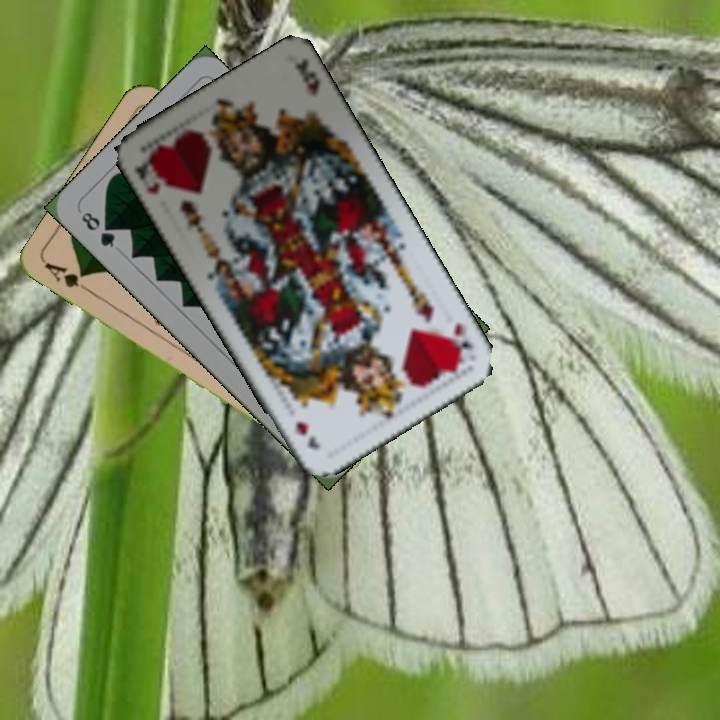G8: (77, 207, 118, 251)
GA: (41, 258, 95, 297)
HK: (130, 152, 170, 198), (444, 318, 474, 365)
